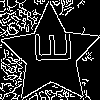E: (25, 29, 71, 65)
